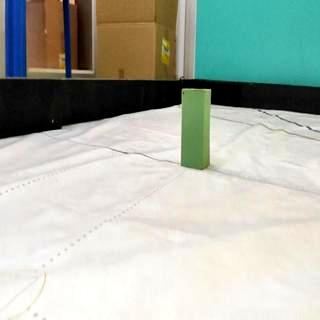greenbox: (180, 88, 212, 170)
